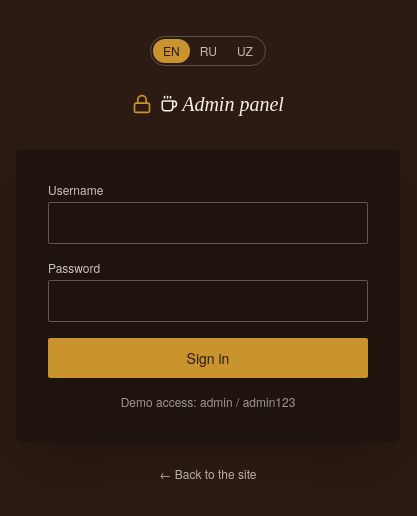
Test: Forms (React Hook Form + Zod) › login asks for both fields before contacting the server
The image size is (417, 516).
expect the heading "Admin panel" is shown: met, box [160,90,284,118]
Click the button "Sign in" at (208, 358), box [48,338,368,378]
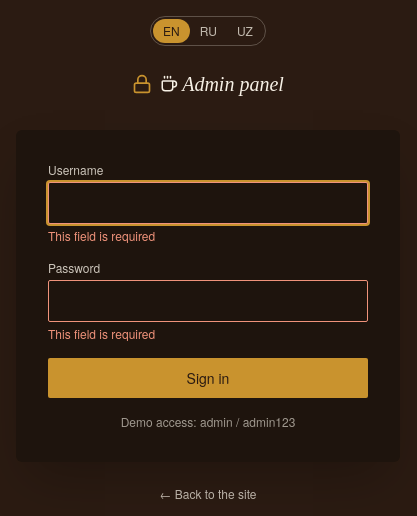
expect the text "This field is required" is shown 2 times: met, box [48,227,155,244]; [48,325,155,342]
